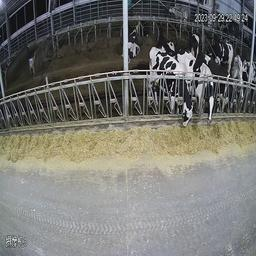cow: (149, 47, 192, 127), (192, 56, 220, 127), (127, 23, 140, 63), (137, 14, 151, 38)
